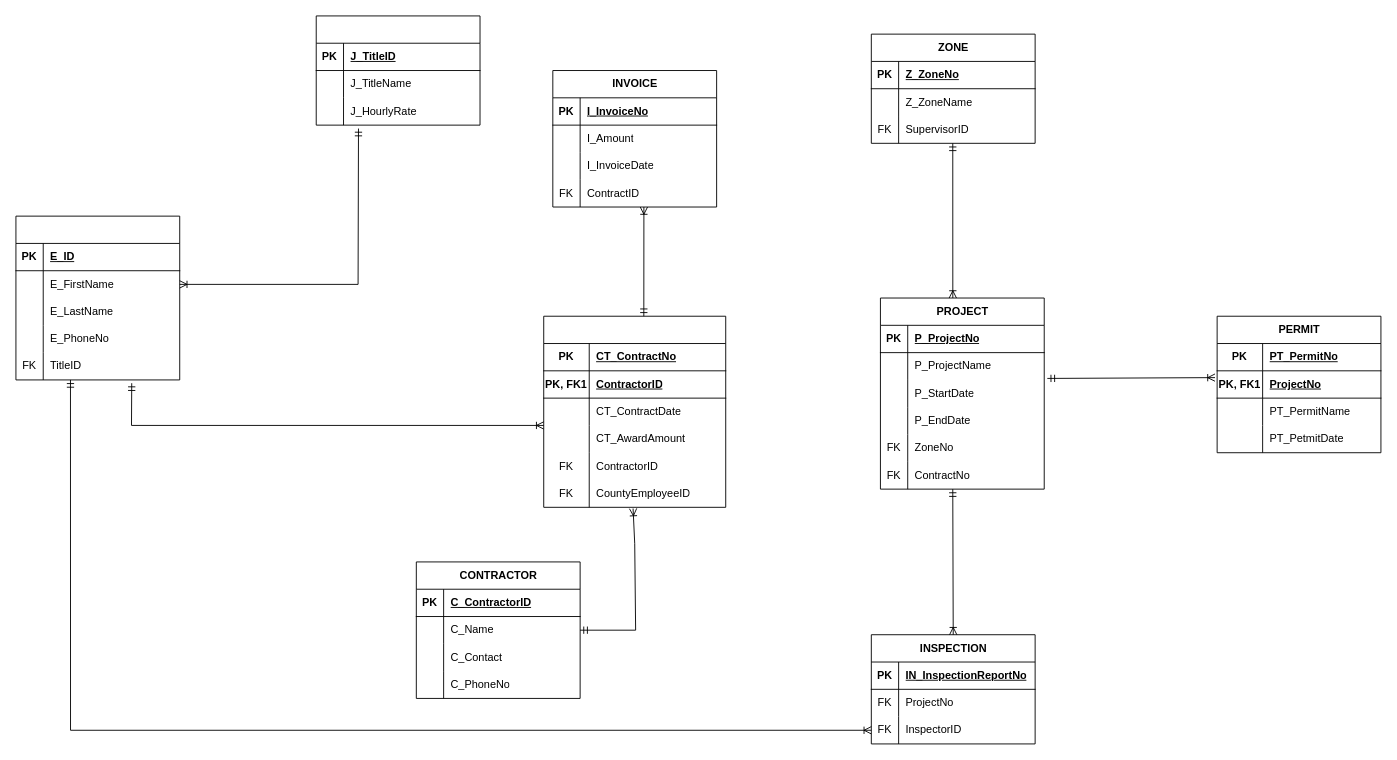
Image size: 1397x760. Some labels were removed from this diagram. The box of each missing label's shape, as (x1, y1, x2, y2) in pixels:
CONSTRUCTION_CONTRACT: (543, 315, 726, 507)
EMPLOYEE: (15, 215, 180, 380)
JOB TITLE: (315, 15, 480, 125)
